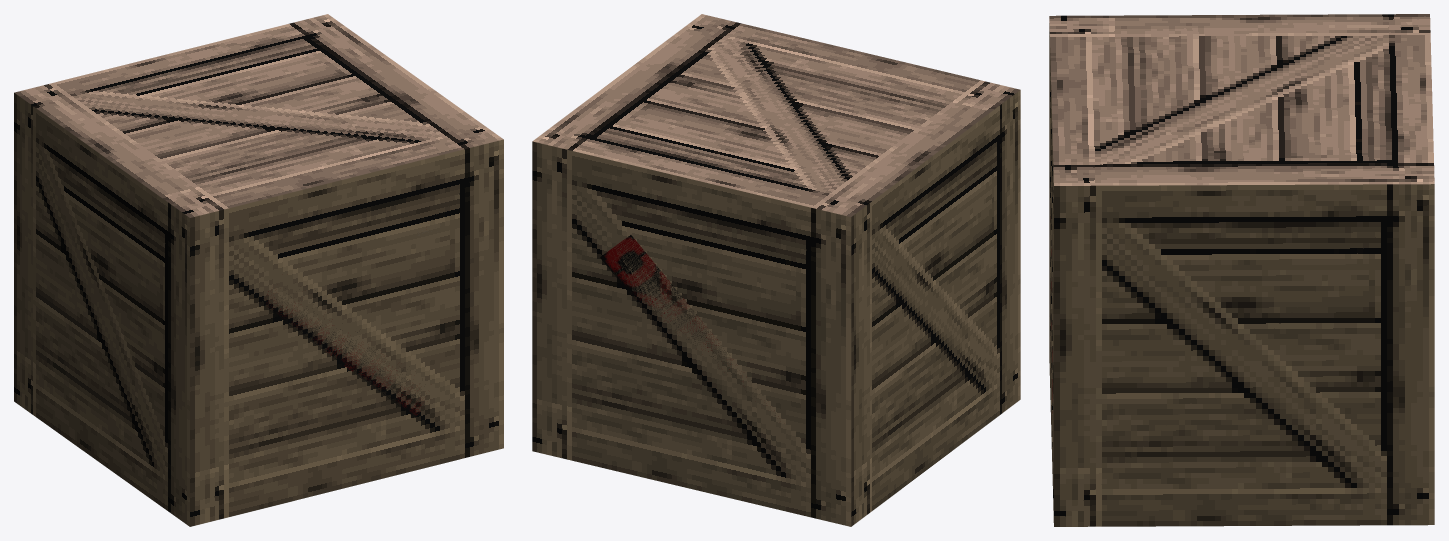
The model's file is primary_089.glb.
3 views of the same model, side by side, from view 1: azimuth 30°, elevation 25°; view 2: azimuth 150°, elevation 25°; view 3: azimuth 270°, elevation 25° (orthographic). The views are drawn at different scales.
Parts seen in each view (by area): view 1: Object; view 2: Object; view 3: Object.
Part boxes in pixels (x1,y1,x2,y2): Object: (14,14,503,526); Object: (532,14,1020,526); Object: (1049,14,1434,526).
Size of the model in its own units: 1.38 by 1.28 by 1.31.
Materials: 7 (7 with a texture image).
